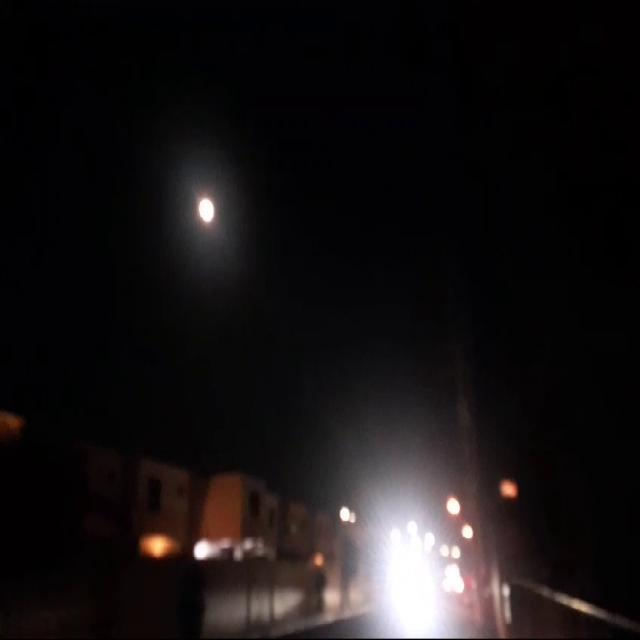moon: (197, 194, 216, 228)
